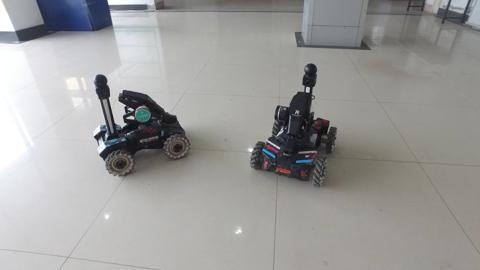chariot: (240, 62, 344, 193), (85, 73, 195, 182)
